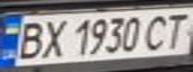0: (121, 12, 145, 53)
1: (66, 16, 93, 56)
3: (106, 15, 127, 54)
9: (87, 16, 109, 56)
B: (9, 18, 48, 61)
C: (139, 11, 175, 52)
T: (157, 10, 193, 49)
X: (36, 16, 69, 58)
